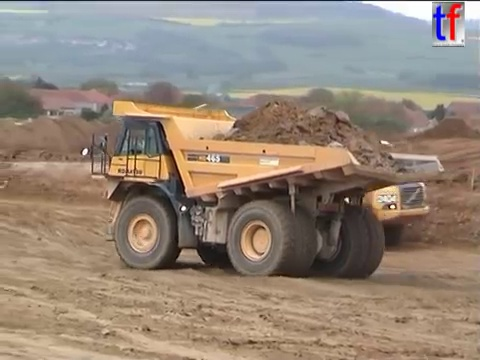truck: (79, 97, 446, 280), (127, 136, 432, 254)
